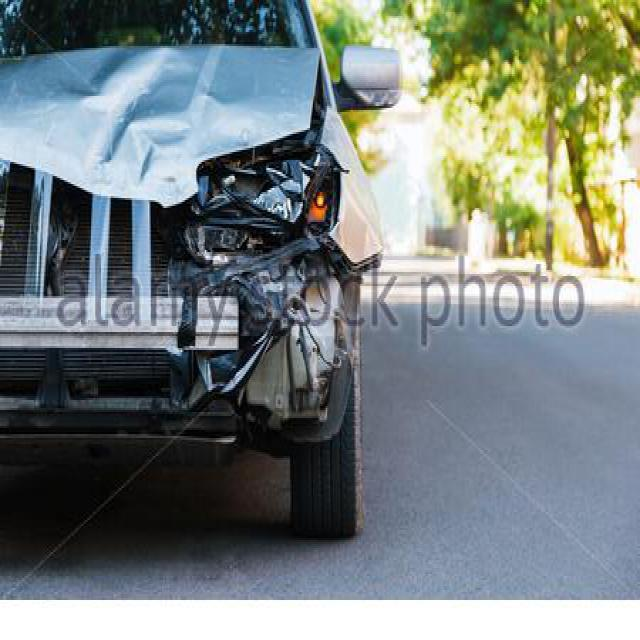headlight: (9, 54, 325, 204)
hood: (111, 154, 354, 432)
